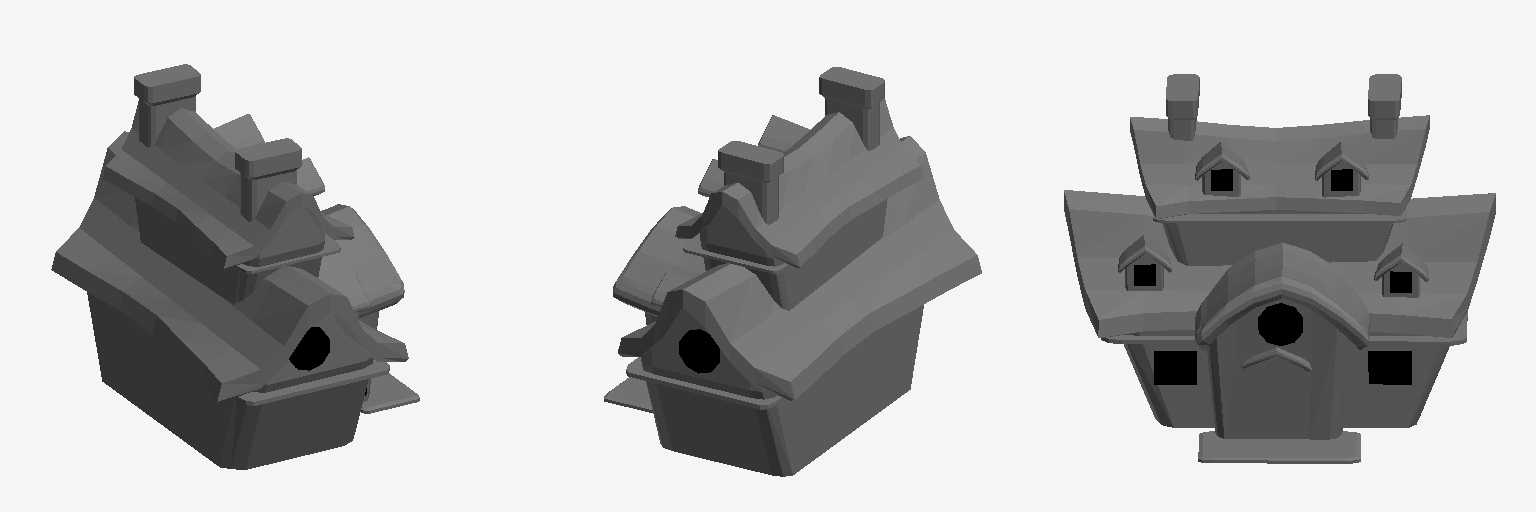
The model's file is Moon_Island_LRG_HSE.obj.
The picture shows the model from 3 angles: view 1: azimuth 30°, elevation 25°; view 2: azimuth 150°, elevation 25°; view 3: azimuth 270°, elevation 25°; orthographic projection.
Parts seen in each view (by area): view 1: Large_house_geo_Large_house_geo, pCube7_pCube7; view 2: Large_house_geo_Large_house_geo, pCube6_pCube6; view 3: Large_house_geo_Large_house_geo, pCube3_pCube3, pTorus7_pTorus7, pTorus8_pTorus8.
Part boxes in pixels (x1,y1,x2,y2): Large_house_geo_Large_house_geo: (51,64,419,469); pCube7_pCube7: (289,327,329,370); Large_house_geo_Large_house_geo: (604,67,981,476); pCube6_pCube6: (679,329,719,373); Large_house_geo_Large_house_geo: (1064,74,1495,463); pCube3_pCube3: (1258,303,1302,345); pTorus7_pTorus7: (1368,351,1411,384); pTorus8_pTorus8: (1154,351,1196,384).
Bounding box in the file's own units: 14.51 × 16.51 × 21.47.